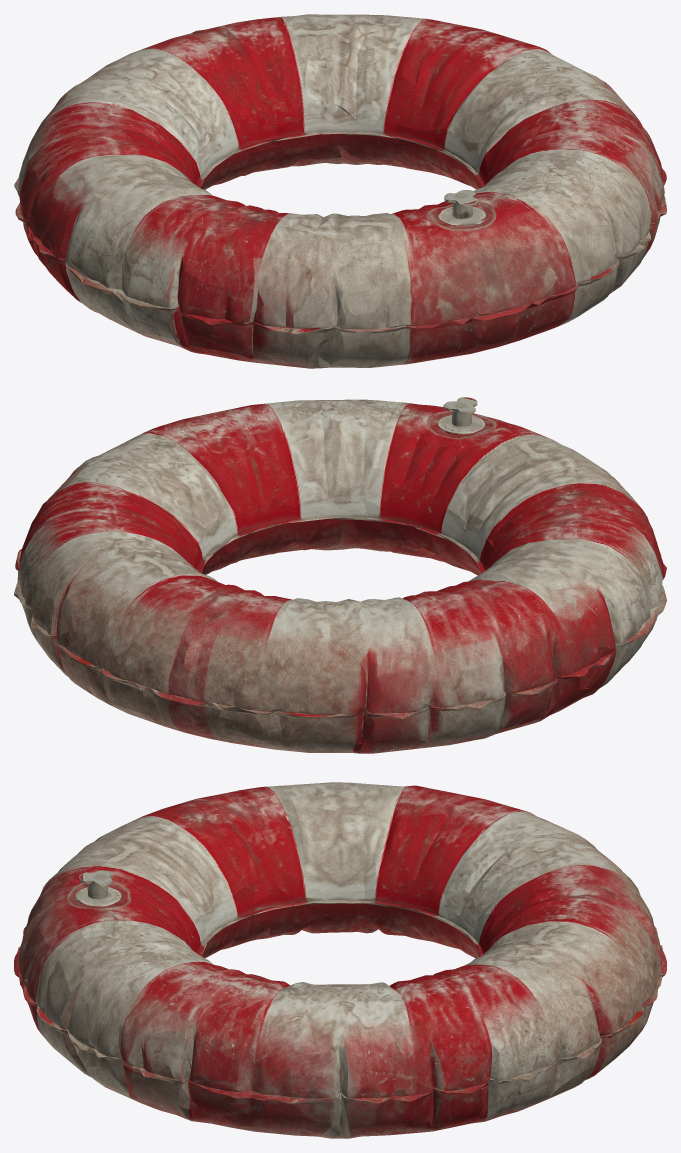
File: ciambella_gonfiabile_meshy.glb
3 views of the same model, one above another, from view 1: azimuth 30°, elevation 25°; view 2: azimuth 150°, elevation 25°; view 3: azimuth 270°, elevation 25° (orthographic).
Parts seen in each view (by area): view 1: Mesh_0; view 2: Mesh_0; view 3: Mesh_0.
Part boxes in pixels (x1=…): Mesh_0: x1=14, y1=14, x2=666, y2=368; Mesh_0: x1=14, y1=397, x2=666, y2=753; Mesh_0: x1=14, y1=782, x2=666, y2=1138.
Size of the model in its own units: 1.9 by 0.465 by 1.9.
1 material, 1 textured.
